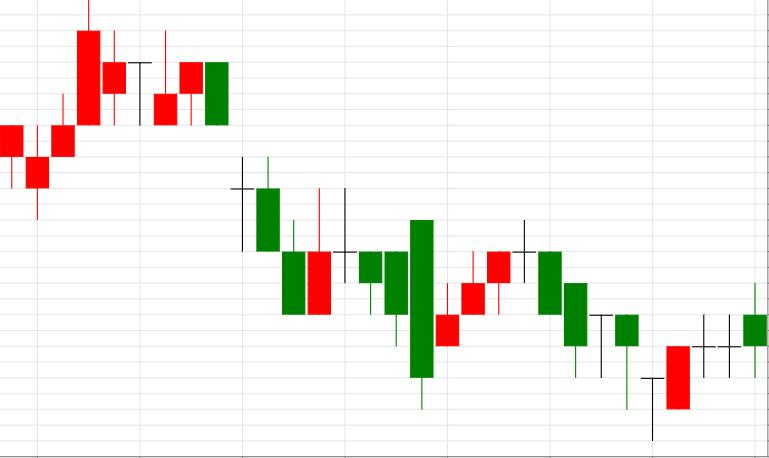bullish_engulfing_rise: (205, 63, 330, 316)
hammer_rise: (513, 220, 638, 411)
